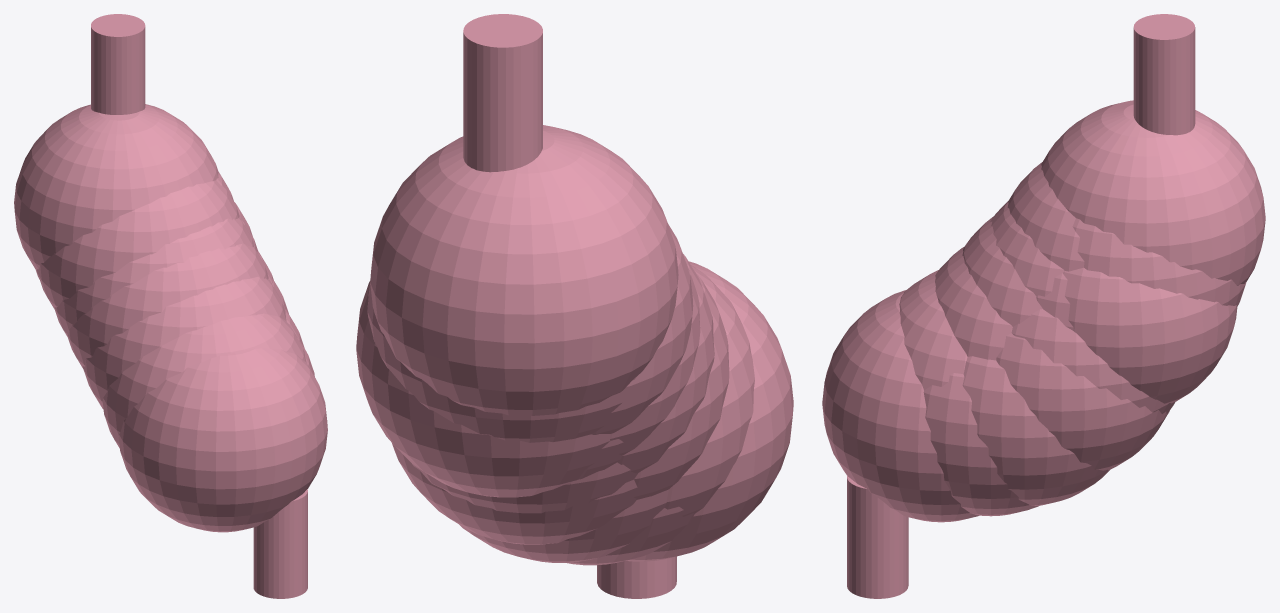
File: stomach.fbx
3 renders of one model, left to right at view 1: azimuth 30°, elevation 25°; view 2: azimuth 150°, elevation 25°; view 3: azimuth 270°, elevation 25°, orthographic. The views are drawn at different scales.
Parts seen in each view (by area): view 1: node_id6, node_id10, node_id8; view 2: node_id6, node_id10, node_id8; view 3: node_id6, node_id10, node_id8.
Part boxes in pixels (<box>): node_id6: <box>14,104,327,532</box>; node_id10: <box>91,14,145,114</box>; node_id8: <box>253,489,307,598</box>; node_id6: <box>356,125,793,565</box>; node_id10: <box>463,14,542,172</box>; node_id8: <box>597,556,676,598</box>; node_id6: <box>822,100,1265,522</box>; node_id10: <box>1133,14,1195,135</box>; node_id8: <box>847,476,908,598</box>.
Size of the model in its own units: 0.2196 by 0.4725 by 0.3522.
3 materials, 3 textured.
